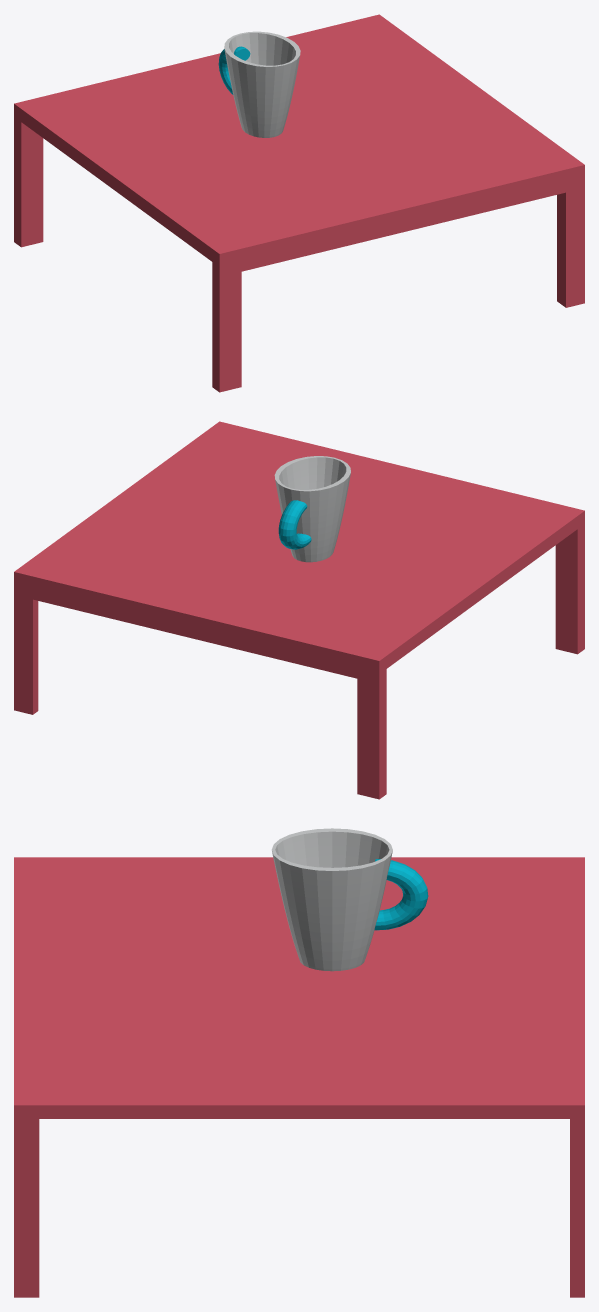
The model's file is Terrific Maimu-Esboo.glb.
3 views of the same model, one above another, from view 1: azimuth 30°, elevation 25°; view 2: azimuth 150°, elevation 25°; view 3: azimuth 270°, elevation 25° (orthographic). The views are drawn at different scales.
Visible parts, largest first — view 1: Mesh_Mesh_head_geo.001_lambert2SG.001; view 2: Mesh_Mesh_head_geo.001_lambert2SG.001; view 3: Mesh_Mesh_head_geo.001_lambert2SG.001.
Part boxes in pixels (<box>): Mesh_Mesh_head_geo.001_lambert2SG.001: <box>14,14,584,392</box>; Mesh_Mesh_head_geo.001_lambert2SG.001: <box>14,421,584,799</box>; Mesh_Mesh_head_geo.001_lambert2SG.001: <box>14,828,584,1297</box>.
Bounding box in the file's own units: 116 × 67 × 113.
